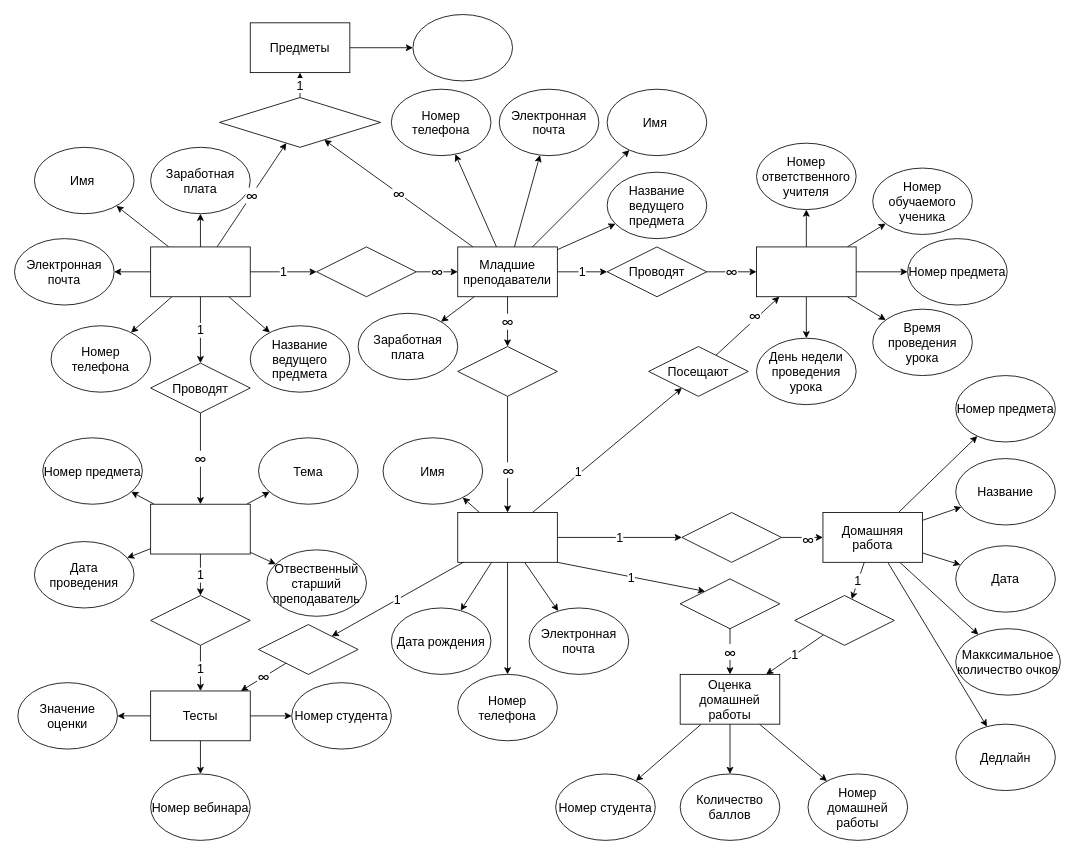
The diagram is 1075 pixels wide and 855 high, and some of its shapes have lost their labels. Here are the shapes that lost their labels. From the top down, the centre of each, then its label:
the point at 462,47: Назвавние
the point at 300,122: Специализируются на
the point at 200,271: Старшие преподаватели
the point at 366,271: Управляют
the point at 806,271: Уроки
the point at 507,371: Обучают
the point at 200,528: Вебинары
the point at 507,537: Ученики
the point at 731,537: Выполняют
the point at 200,620: Оцениваются
the point at 729,603: Получают
the point at 844,620: Оценивается
the point at 308,649: Сдают
